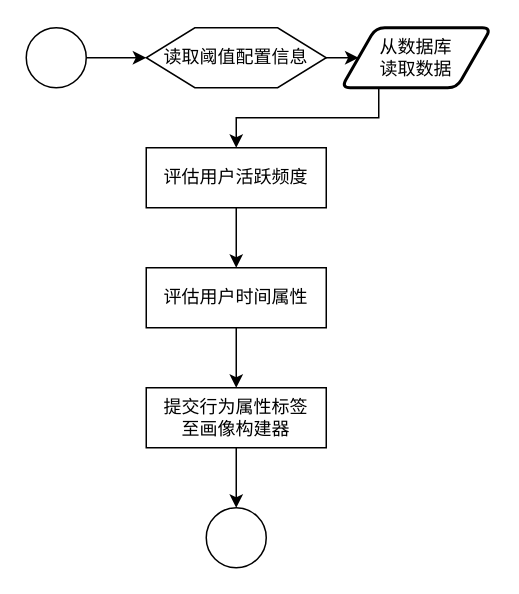
Image size: 519x594. Some labels were removed from this diagram. Here are the shapes that lost their labels. From the top down, the centre of each, then its label:
At point (55, 57): "开始".
At point (235, 537): "结束".
